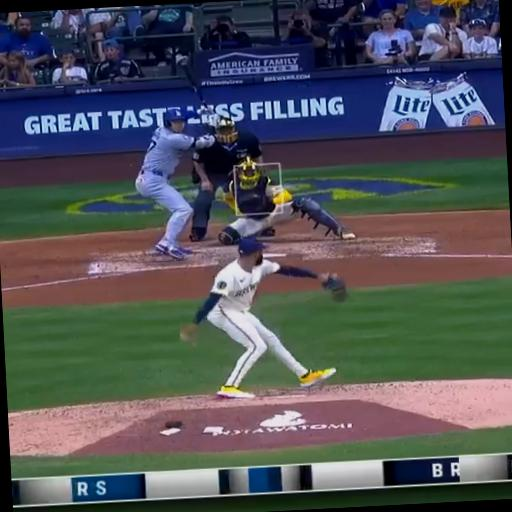bat: (178, 55, 211, 113), (178, 55, 207, 106)
